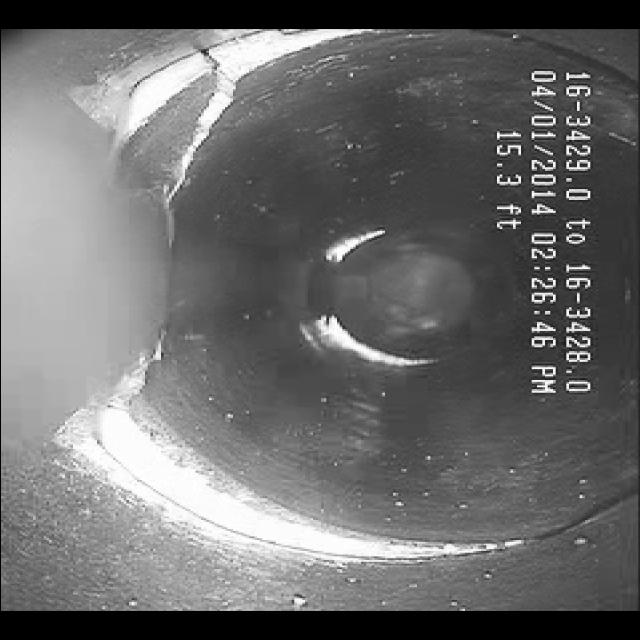Fracture: (99, 54, 310, 217)
